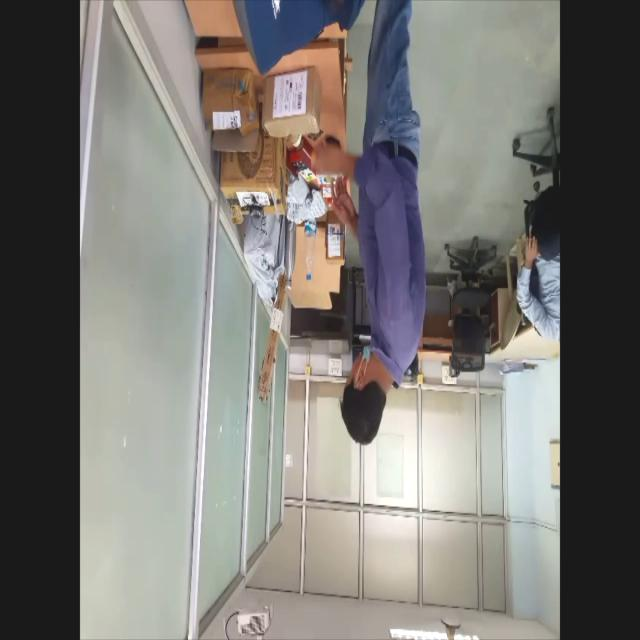normal: (322, 0, 440, 461)
